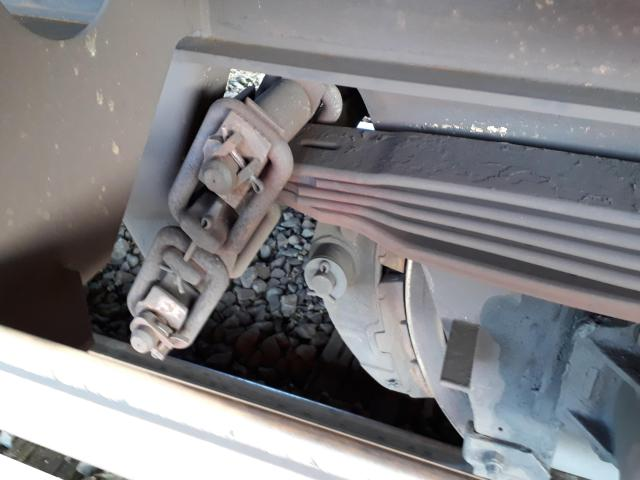blattfederww: (311, 123, 640, 313)
